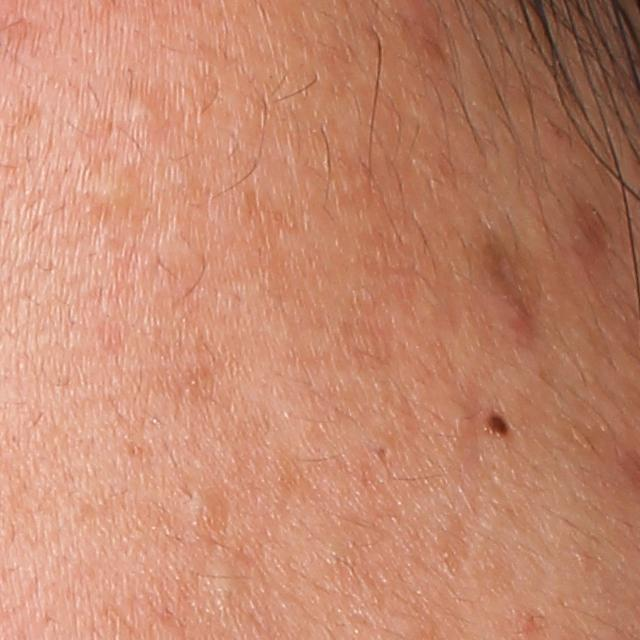comedo: (78, 164, 143, 211), (206, 564, 250, 599)
nevus: (486, 412, 509, 438)
